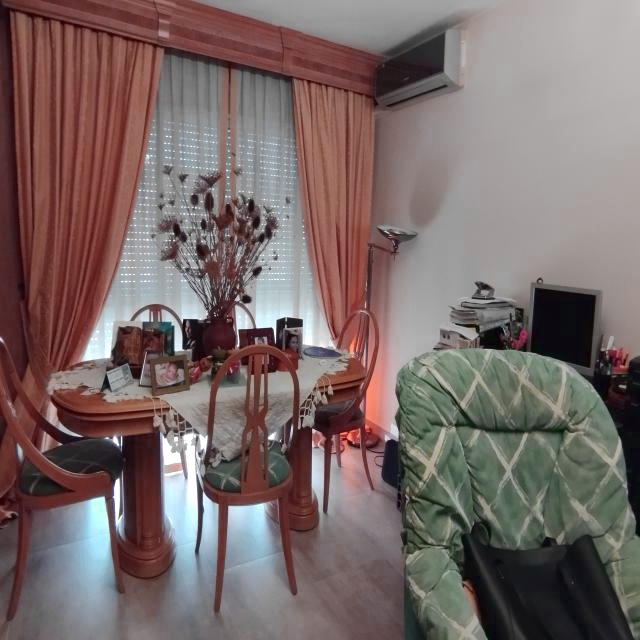chair: (395, 348, 640, 640), (0, 337, 126, 622), (195, 345, 300, 614), (320, 394, 373, 515), (336, 307, 378, 372)
lamp: (377, 226, 417, 248), (367, 249, 373, 311), (366, 433, 381, 452), (354, 429, 360, 447)
monitor: (529, 283, 602, 375)
stove: (49, 360, 211, 580), (300, 348, 357, 422), (286, 426, 319, 532)
